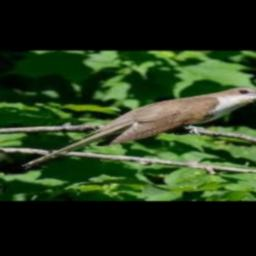Cuckoo: (21, 87, 256, 169)
